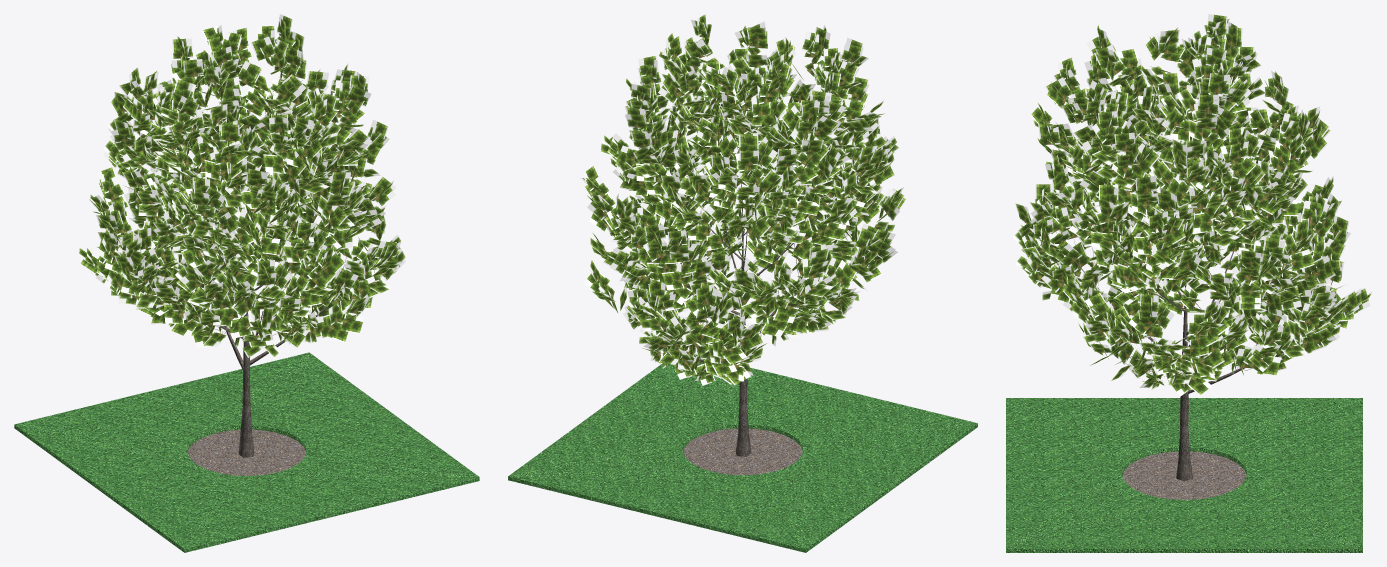
Rendered from zarang.glb.
The picture shows the model from 3 angles, left to right: view 1: azimuth 30°, elevation 25°; view 2: azimuth 150°, elevation 25°; view 3: azimuth 270°, elevation 25°; orthographic projection. The views are drawn at different scales.
Parts seen in each view (by area): view 1: Material2 (×4); view 2: Material2 (×4); view 3: Material2 (×4).
Boxes of the visible parts, x1,y1,x2,y2 form: Material2 (×4): (14, 14, 479, 552); Material2 (×4): (508, 14, 977, 552); Material2 (×4): (1006, 14, 1372, 552).
Size of the model in its own units: 242 by 325 by 247.
4 materials, 4 textured.
